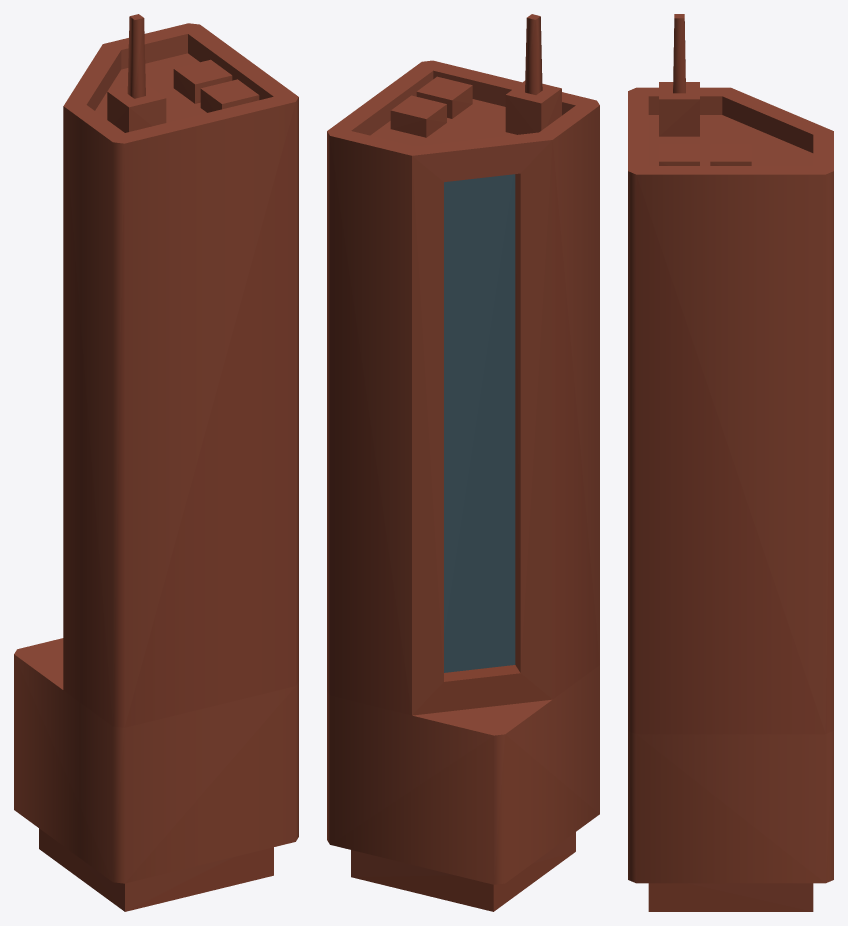
The model's file is block-c.high.a3c169e7.glb.
The picture shows the model from 3 angles, left to right: view 1: azimuth 30°, elevation 25°; view 2: azimuth 150°, elevation 25°; view 3: azimuth 270°, elevation 25°; orthographic projection. The views are drawn at different scales.
Parts seen in each view (by area): view 1: block-c; view 2: block-c; view 3: block-c.
Boxes of the visible parts, x1,y1,x2,y2 form: block-c: (14,14,298,911); block-c: (327,14,599,911); block-c: (628,14,833,911).
Bounding box in the file's own units: 6 × 27 × 6.
